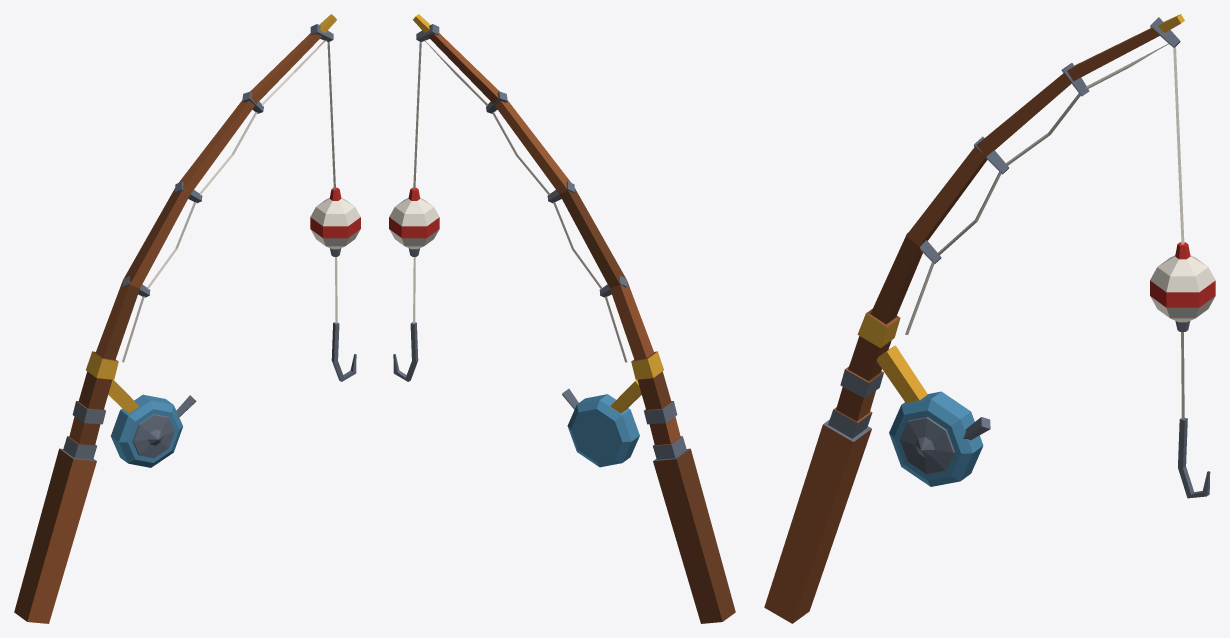
File: rod.glb
The picture shows the model from 3 angles, left to right: view 1: azimuth 30°, elevation 25°; view 2: azimuth 150°, elevation 25°; view 3: azimuth 330°, elevation 25°; orthographic projection. The views are drawn at different scales.
Visible parts, largest first — view 1: rod; view 2: rod; view 3: rod.
Boxes of the visible parts, x1=… form: rod: x1=14, y1=14, x2=360, y2=623; rod: x1=389, y1=14, x2=735, y2=623; rod: x1=764, y1=14, x2=1215, y2=623.
Bounding box in the file's own units: 1.3 × 1.98 × 0.17.
